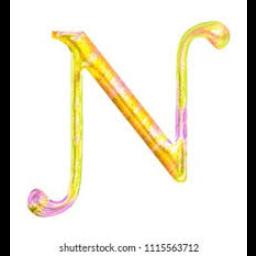n: (48, 18, 236, 198)
